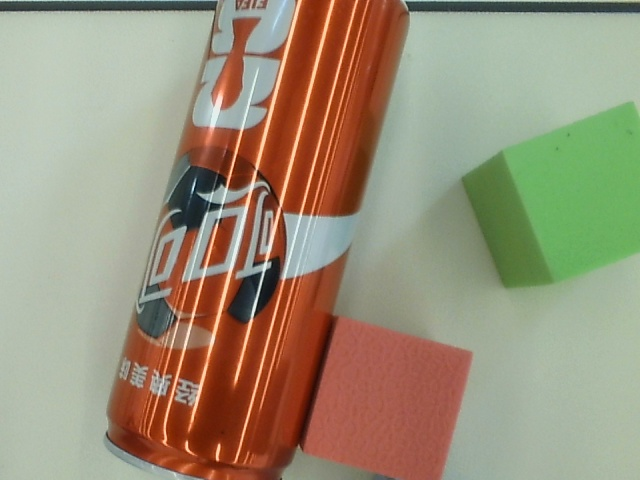cola: (103, 1, 425, 480)
greencube: (457, 96, 640, 297)
redcube: (298, 314, 477, 480)
